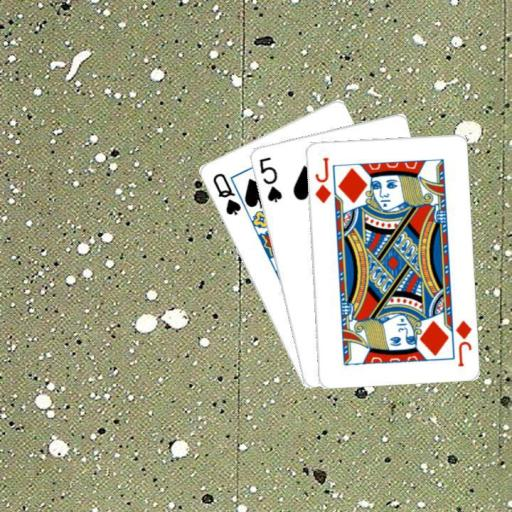5S: (255, 154, 283, 204)
JD: (452, 317, 473, 368), (312, 154, 332, 205)
QS: (209, 169, 243, 217)
